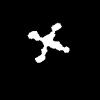single_crochet: (28, 23, 68, 61)
